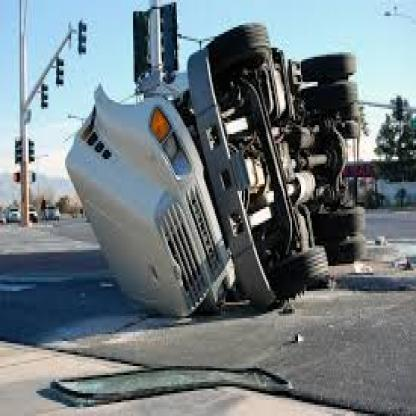accident: (54, 22, 369, 328)
